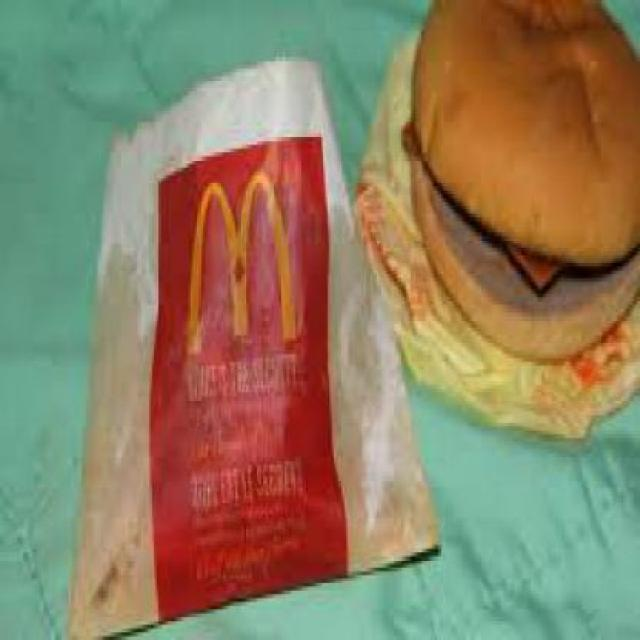french fries: (83, 95, 403, 576)
